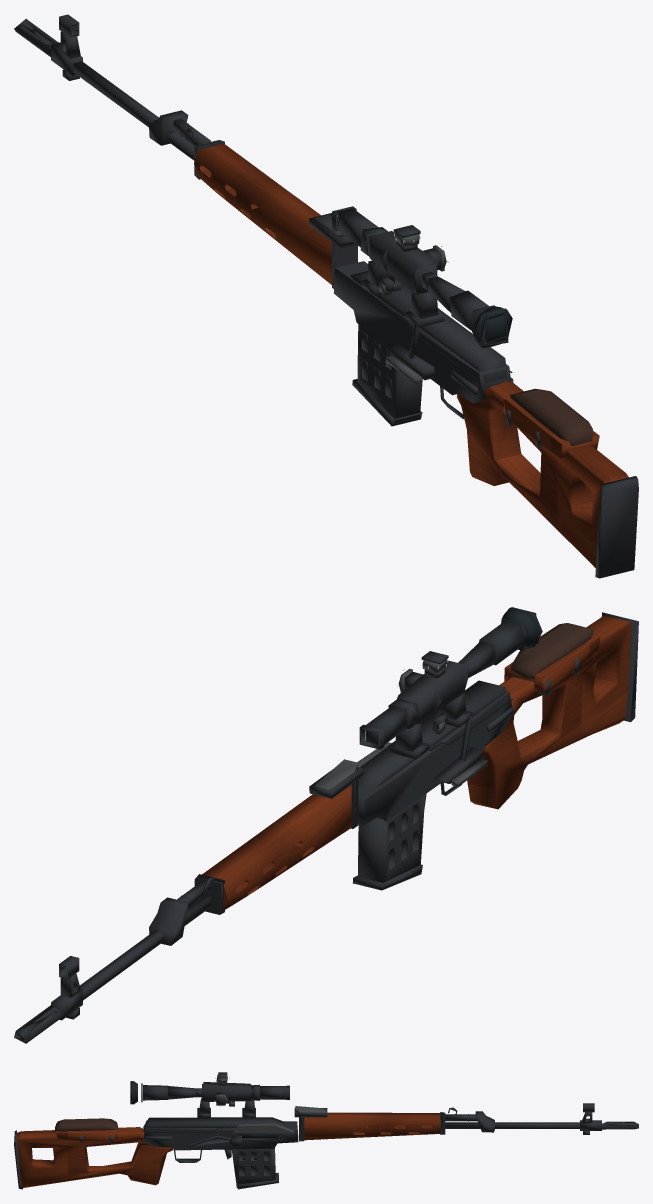
File: SVD.glb
3 views of the same model, one above another, from view 1: azimuth 30°, elevation 25°; view 2: azimuth 150°, elevation 25°; view 3: azimuth 270°, elevation 25° (orthographic). The views are drawn at different scales.
Visible parts, largest first — view 1: Body_Mesh, Magazine_Mesh; view 2: Body_Mesh, Magazine_Mesh, Muzzle_Mesh; view 3: Body_Mesh, Magazine_Mesh, Bolt_Mesh, Muzzle_Mesh.
Boxes of the visible parts, x1,y1,x2,y2 form: Body_Mesh: [51, 14, 638, 578]; Magazine_Mesh: [352, 324, 422, 426]; Body_Mesh: [51, 607, 638, 1020]; Magazine_Mesh: [352, 794, 425, 890]; Muzzle_Mesh: [14, 1005, 64, 1043]; Body_Mesh: [14, 1072, 601, 1189]; Magazine_Mesh: [231, 1148, 278, 1189]; Bolt_Mesh: [229, 1123, 293, 1146]; Muzzle_Mesh: [601, 1121, 638, 1129].
Size of the model in its own units: 0.0817 by 0.2315 by 1.22.
9 materials, 1 textured.
